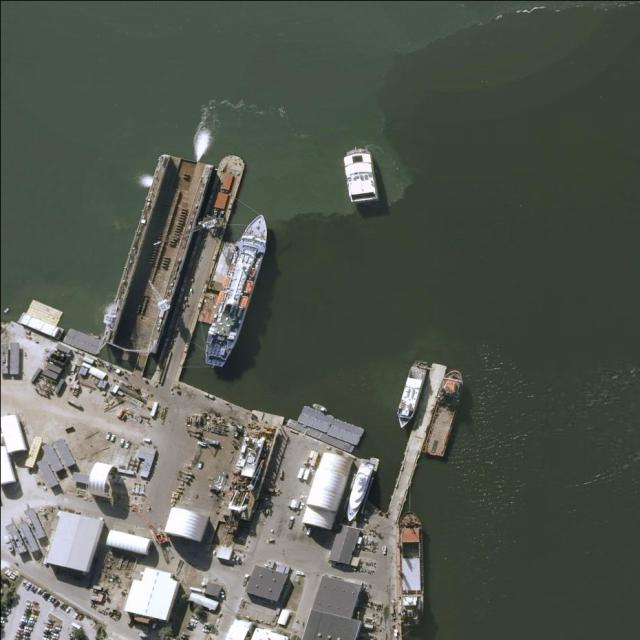Cargo: (195, 208, 279, 372), (420, 367, 469, 459), (397, 511, 426, 626)
Dock: (149, 149, 247, 383), (383, 358, 447, 523)
Yacht: (394, 359, 429, 429), (342, 455, 373, 524)
